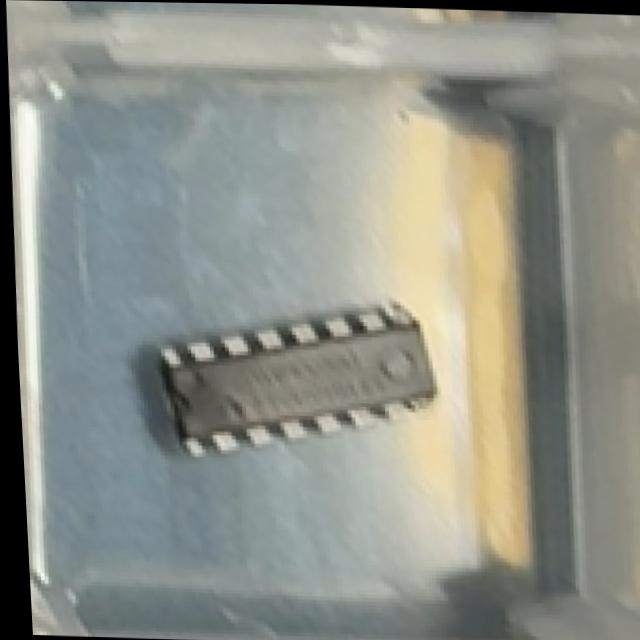IC: (148, 289, 446, 465)
